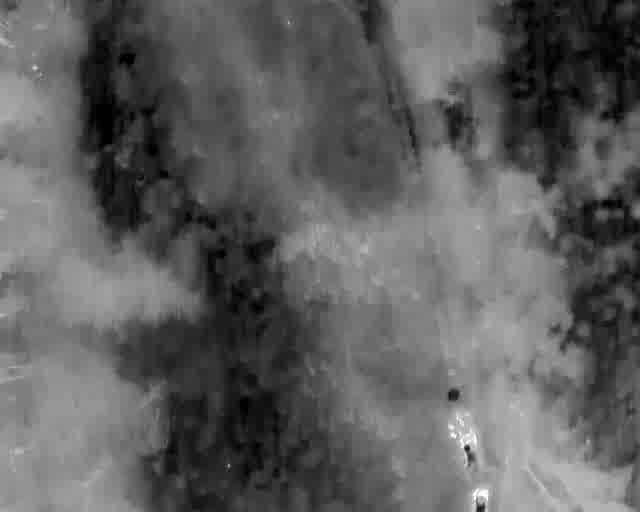car: (320, 196, 349, 229)
person: (356, 223, 361, 233), (359, 227, 363, 239)
